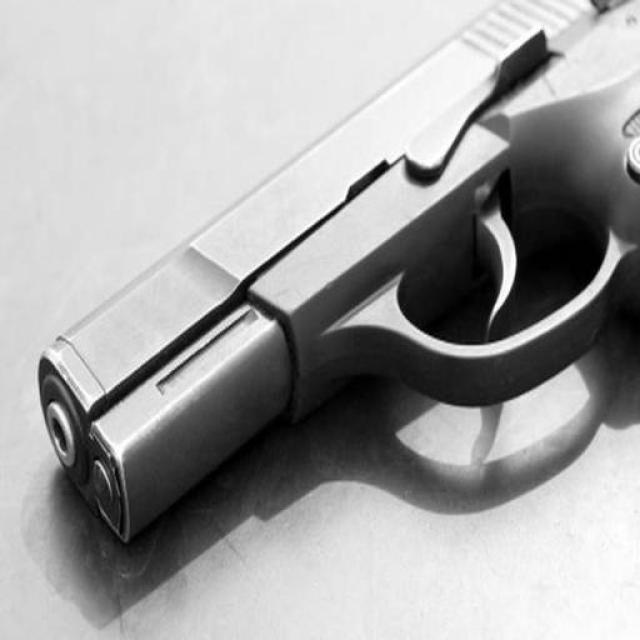pistol: (35, 1, 640, 542)
